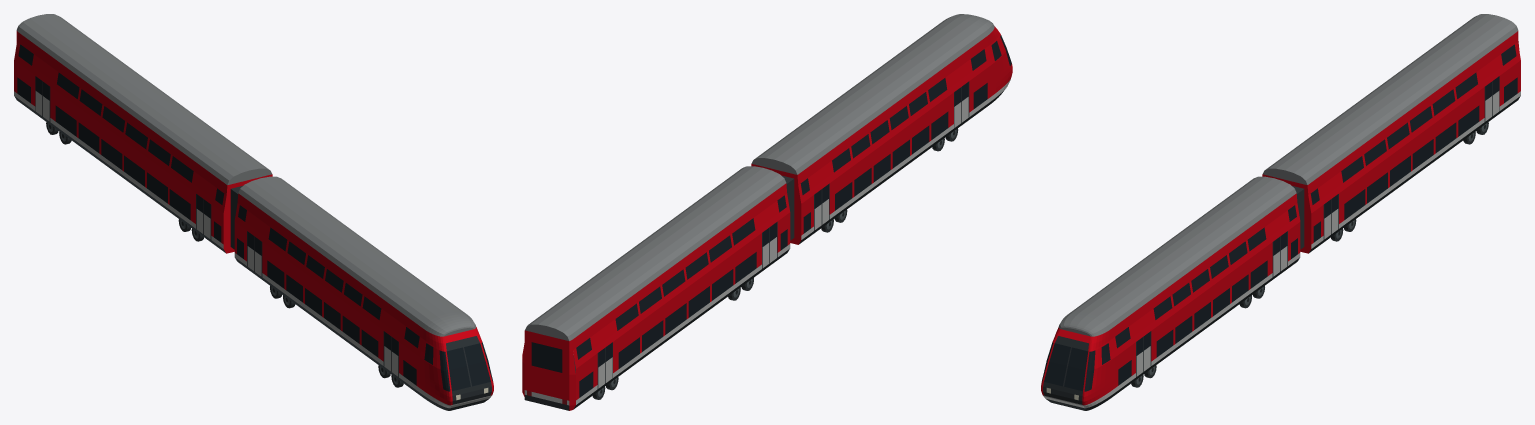
File: regional_lowpoly_v2.glb
3 renders of one model, left to right at view 1: azimuth 30°, elevation 25°; view 2: azimuth 150°, elevation 25°; view 3: azimuth 330°, elevation 25°, orthographic. The views are drawn at different scales.
Visible parts, largest first — view 1: regional_lowpoly_v2; view 2: regional_lowpoly_v2; view 3: regional_lowpoly_v2.
Part boxes in pixels (<box>): regional_lowpoly_v2: <box>14,14,493,410</box>; regional_lowpoly_v2: <box>522,14,1012,410</box>; regional_lowpoly_v2: <box>1041,14,1520,410</box>.
Bounding box in the file's own units: 2.8 × 4.6 × 40.
